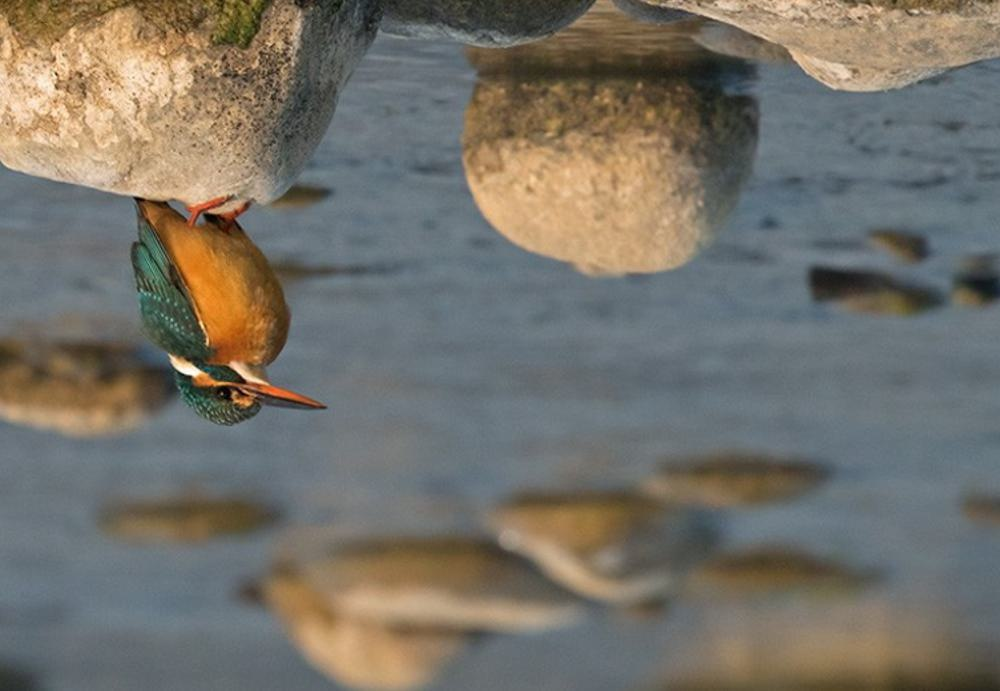kingfisher: (117, 169, 347, 451)
